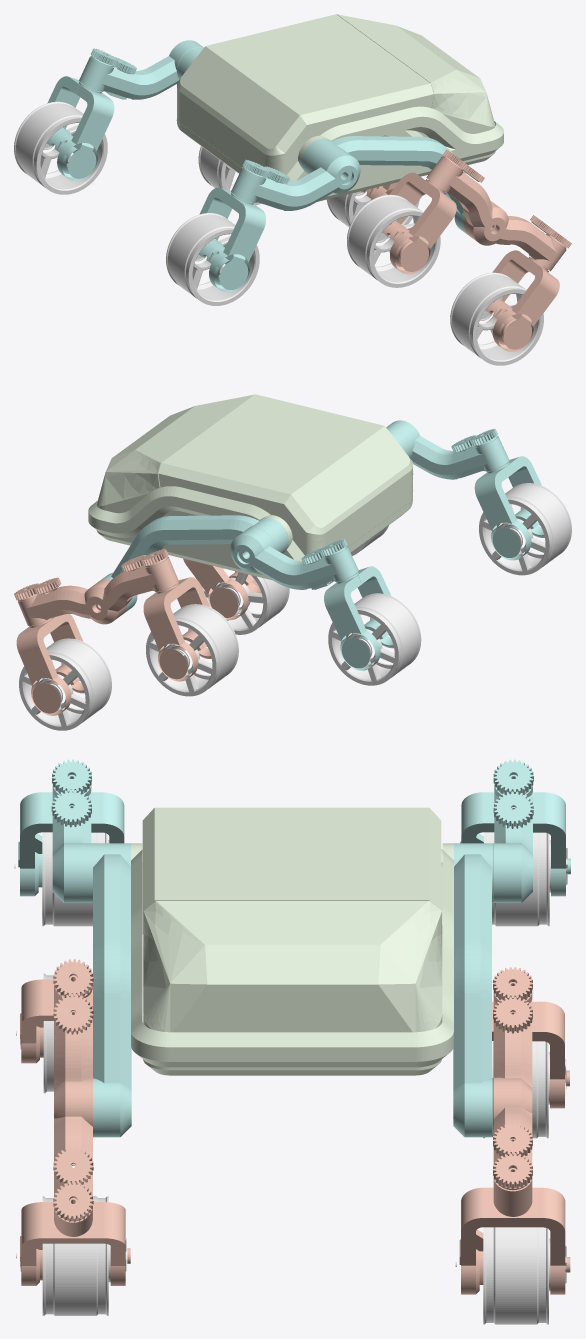
The model's file is rover.glb.
The picture shows the model from 3 angles, top to bottom: view 1: azimuth 30°, elevation 25°; view 2: azimuth 150°, elevation 25°; view 3: azimuth 270°, elevation 25°; orthographic projection. The views are drawn at different scales.
Parts seen in each view (by area): view 1: Node8, Node7, Node6, Node2, Node5, Node9, Node4; view 2: Node8, Node7, Node3, Node2, Node5, Node9, Node6, Node1; view 3: Node8, Node5, Node7, Node3, Node6, Node2, Node9, Node4, Node1.
Part boxes in pixels (x1,y1,x2,y2): Node8: [176, 14, 503, 201]; Node7: [14, 101, 543, 365]; Node6: [382, 149, 566, 351]; Node2: [47, 40, 270, 292]; Node5: [79, 47, 491, 234]; Node9: [231, 148, 360, 210]; Node4: [425, 166, 571, 248]; Node8: [88, 394, 413, 579]; Node7: [19, 483, 571, 730]; Node3: [16, 555, 211, 715]; Node2: [230, 428, 544, 670]; Node5: [100, 427, 412, 613]; Node9: [386, 420, 509, 479]; Node6: [183, 558, 261, 620]; Node1: [14, 549, 178, 627]; Node8: [131, 807, 453, 1075]; Node5: [92, 759, 533, 1137]; Node7: [42, 832, 567, 1324]; Node3: [75, 993, 570, 1294]; Node6: [16, 959, 130, 1285]; Node2: [14, 759, 570, 902]; Node9: [51, 784, 91, 902]; Node4: [53, 994, 93, 1222]; Node1: [493, 967, 532, 1216].
Bounding box in the file's own units: 448 × 282 × 374.
